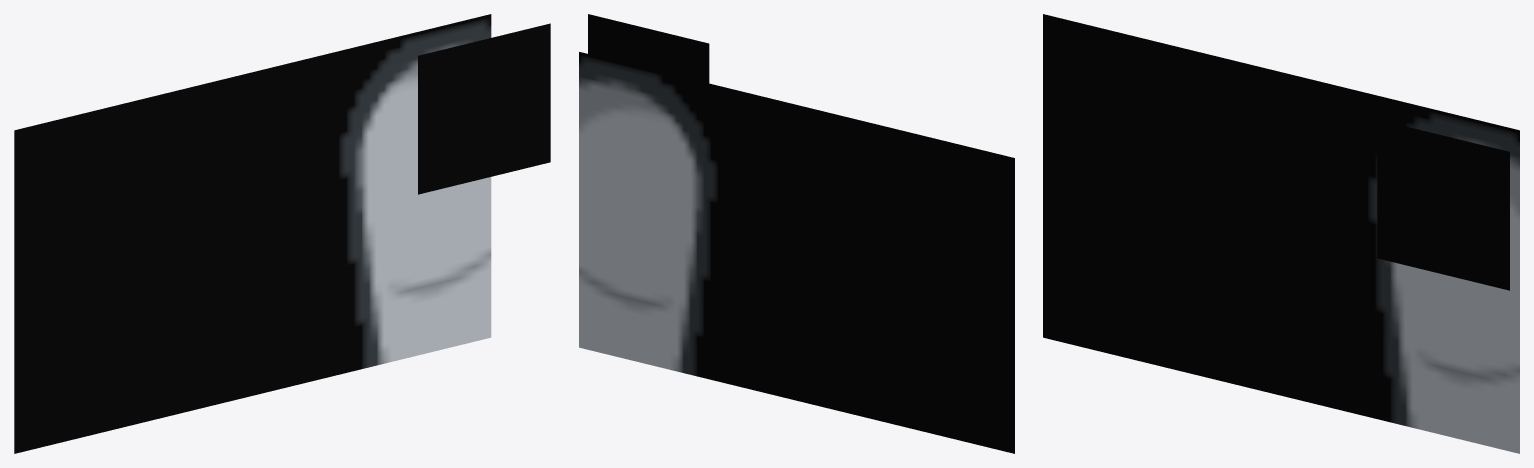
The model's file is bubble1.glb.
The picture shows the model from 3 angles, left to right: view 1: azimuth 30°, elevation 25°; view 2: azimuth 150°, elevation 25°; view 3: azimuth 330°, elevation 25°; orthographic projection. The views are drawn at different scales.
Parts seen in each view (by area): view 1: bubble1, bubbles_btn1; view 2: bubble1, bubbles_btn1; view 3: bubble1, bubbles_btn1.
Part boxes in pixels (<box>): bubble1: <box>14,14,491,453</box>; bubbles_btn1: <box>418,23,550,194</box>; bubble1: <box>579,52,1014,453</box>; bubbles_btn1: <box>588,14,709,83</box>; bubble1: <box>1043,14,1519,453</box>; bubbles_btn1: <box>1377,119,1509,290</box>.
Size of the model in its own units: 264 by 168 by 31.61.
Materials: 1 (1 with a texture image).
